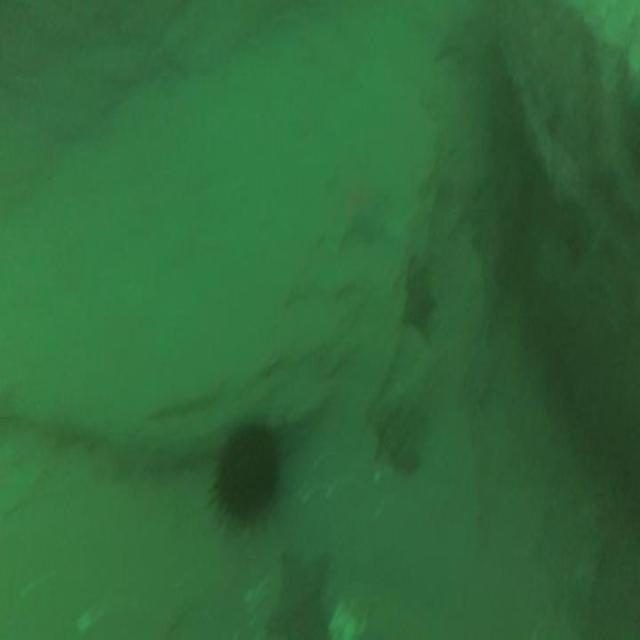echinus: (204, 408, 294, 536)
starfish: (426, 146, 493, 244), (457, 335, 505, 425), (334, 180, 388, 255), (396, 262, 436, 350), (494, 155, 540, 227)
